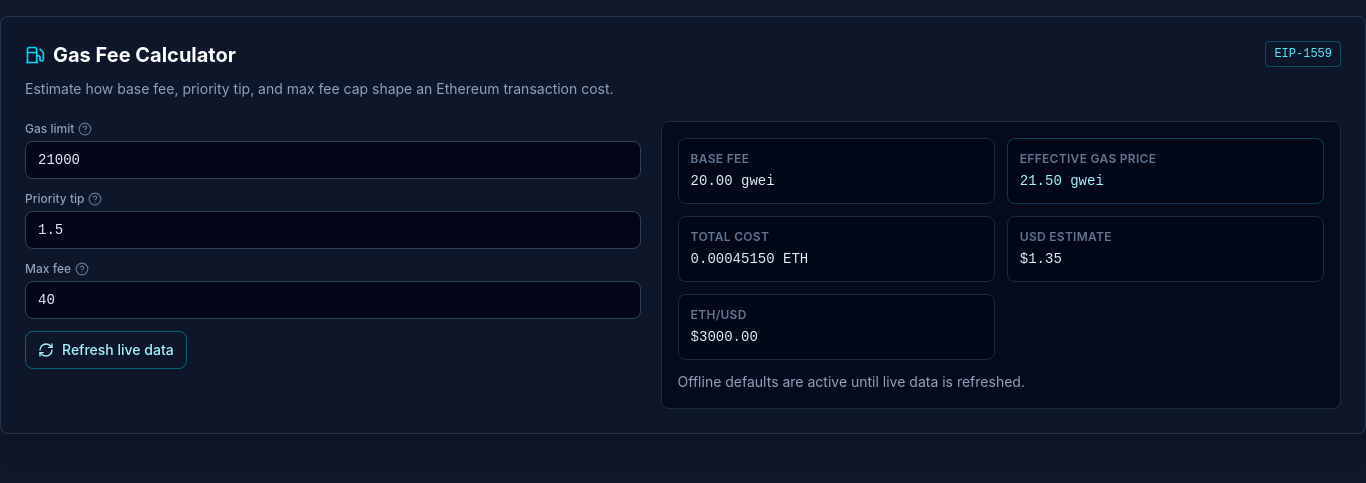
Test: GasFeeCalculator › shows a visible RPC error when the base-fee refresh fails
Click the button "Refresh live data" at (106, 350), box [25,331,187,369]
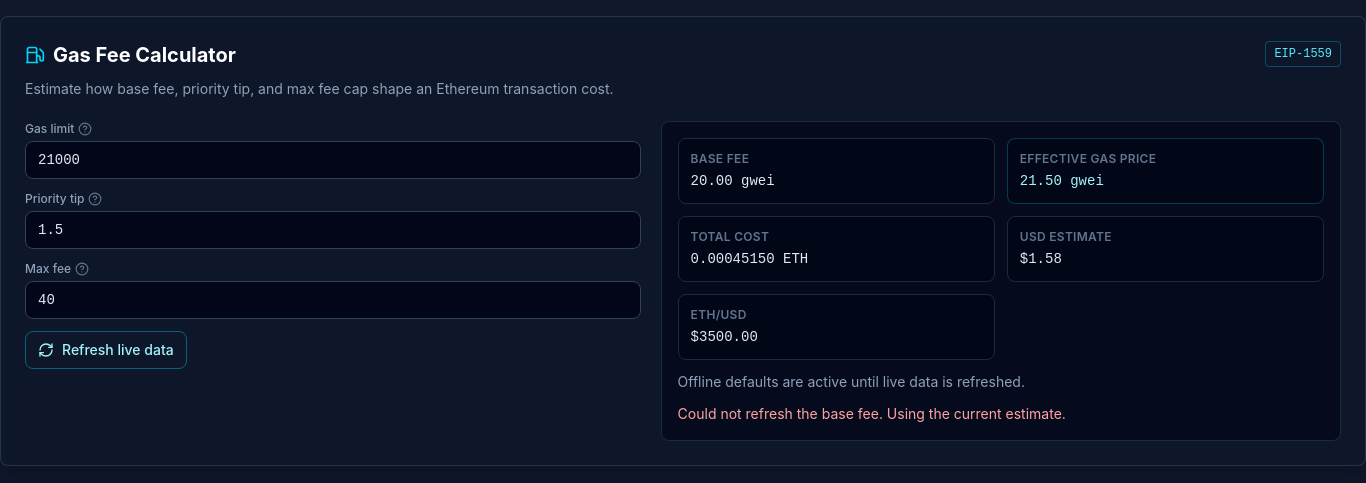
Check: the text "20.00 gwei" is shown, box [691,173,775,189]
Check: the text "Could not refresh the base fee. Using the current estimate." is shown, box [678,405,1066,422]
